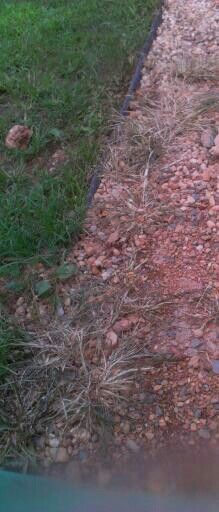crabgrass: (38, 322, 162, 428)
